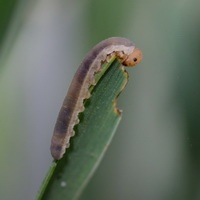insect: (50, 37, 134, 159)
